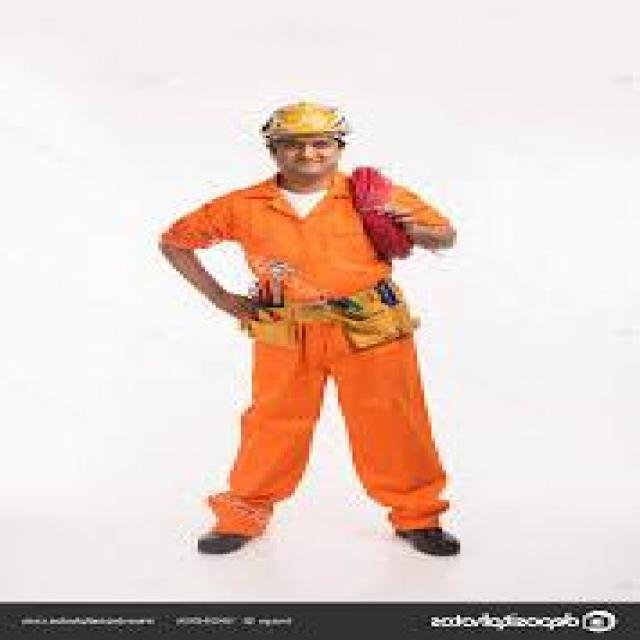Reflective-Jacket: (187, 170, 428, 324)
Safety-Helmet: (234, 88, 370, 154)
